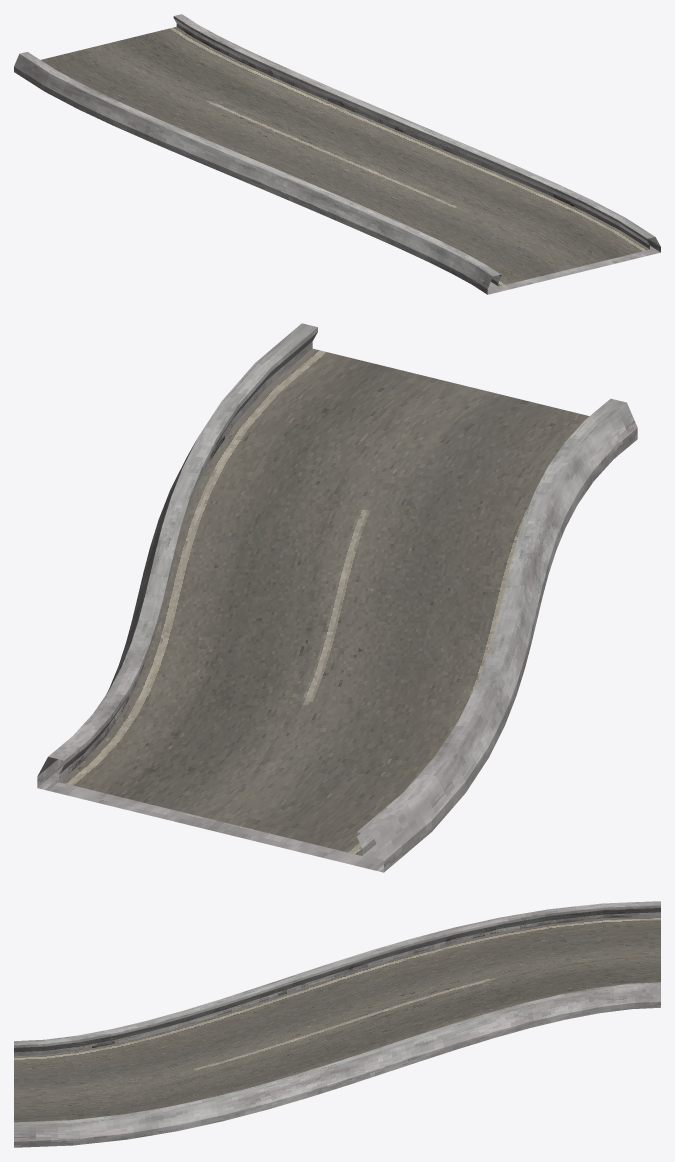
Rendered from chicane-left1x3.glb.
The picture shows the model from 3 angles, top to bottom: view 1: azimuth 30°, elevation 25°; view 2: azimuth 150°, elevation 25°; view 3: azimuth 270°, elevation 25°; orthographic projection. The views are drawn at different scales.
Parts seen in each view (by area): view 1: road-Chicane-Flat-Flat-Up1-Left1-Size3; view 2: road-Chicane-Flat-Flat-Up1-Left1-Size3; view 3: road-Chicane-Flat-Flat-Up1-Left1-Size3.
Part boxes in pixels (<box>): road-Chicane-Flat-Flat-Up1-Left1-Size3: <box>14,14,660,294</box>; road-Chicane-Flat-Flat-Up1-Left1-Size3: <box>37,323,637,872</box>; road-Chicane-Flat-Flat-Up1-Left1-Size3: <box>14,901,660,1147</box>.
Bounding box in the file's own units: 2 × 0.3438 × 3.
Materials: 2 (2 with a texture image).
